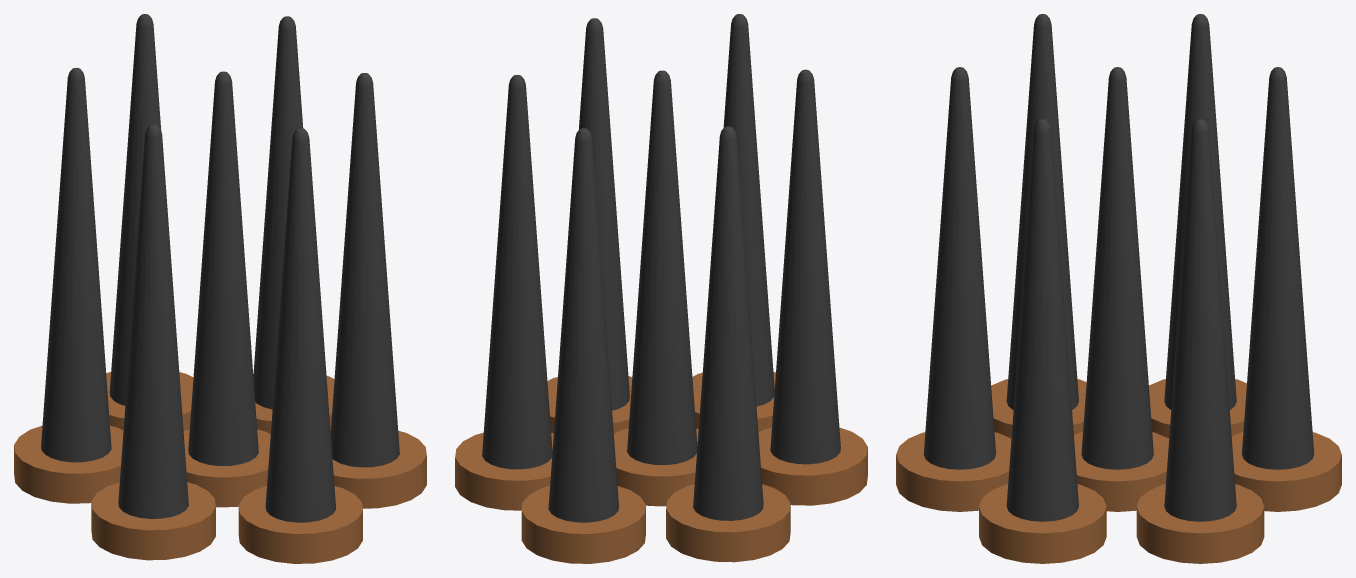
Rendered from spike (1).fbx.
3 views of the same model, side by side, from view 1: azimuth 30°, elevation 25°; view 2: azimuth 150°, elevation 25°; view 3: azimuth 270°, elevation 25° (orthographic). The views are drawn at different scales.
Visible parts, largest first — view 1: Cylinder.011; view 2: Cylinder.011; view 3: Cylinder.011.
Boxes of the visible parts, x1,y1,x2,y2 form: Cylinder.011: (14,14,426,563); Cylinder.011: (455,14,867,563); Cylinder.011: (896,14,1341,563).
Bounding box in the file's own units: 0.4815 × 0.5893 × 0.5705.
